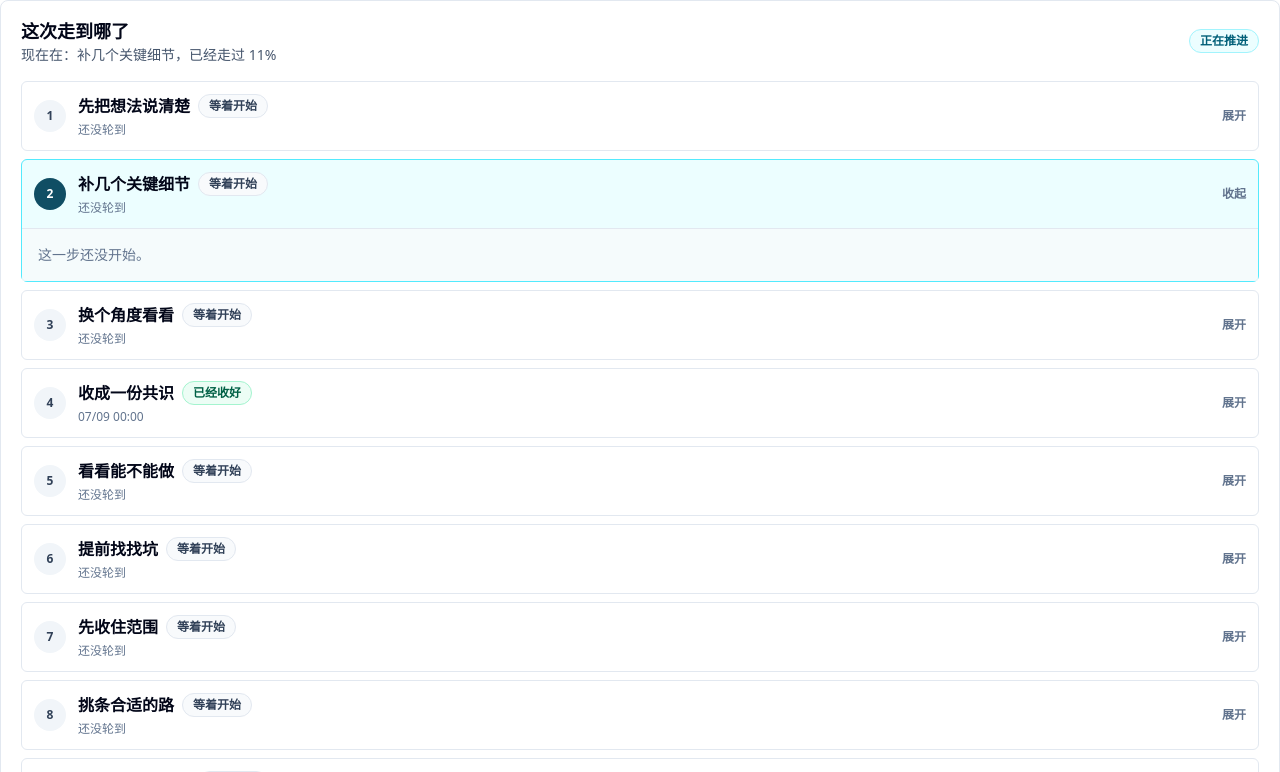
Test case: StageRail › hides an incomplete JSON result behind a Chinese recovery message
What coordinates should you click on to do the following:
click the heading "4 收成一份共识 已经收好 07/09 00:00 展开"
I would click on:
 (50, 403)
Its box is [22,369,1258,437].
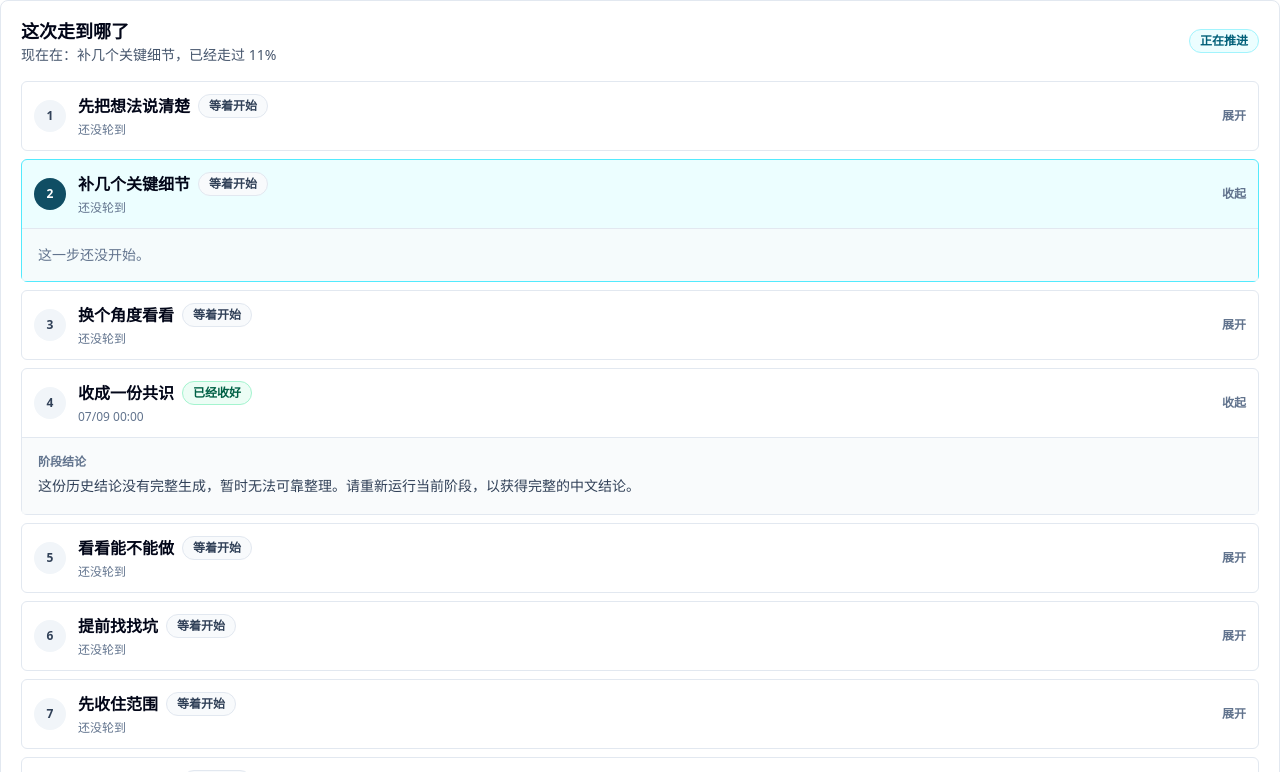
Check: the text "这份历史结论没有完整生成，暂时无法可靠整理。请重新运行当前阶段，以获得完整的中文结论。" is shown, box [38,476,640,495]
